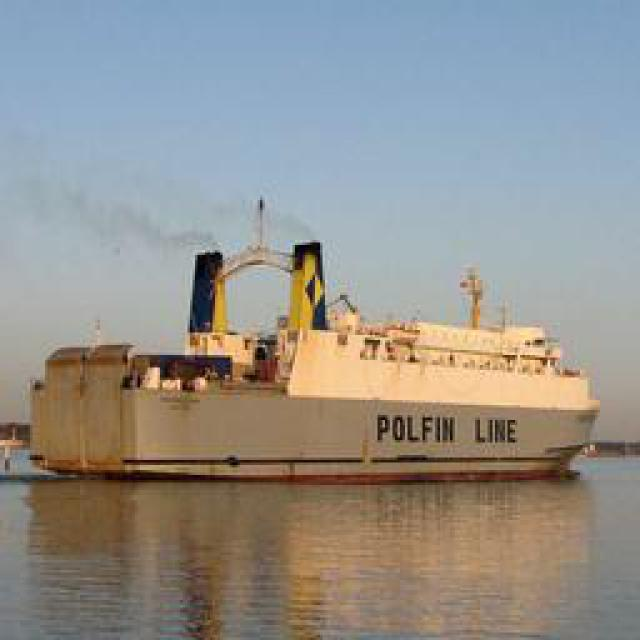Ship: (26, 259, 604, 484)
